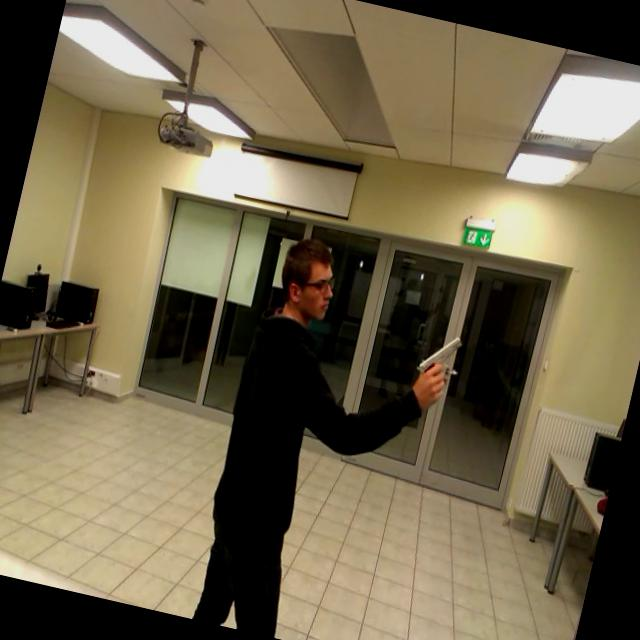handgun: (408, 325, 464, 402)
